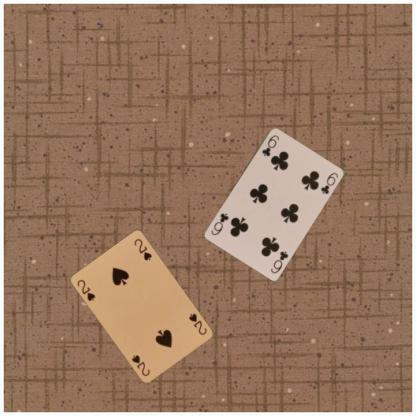2s: (186, 310, 208, 336), (75, 276, 97, 302)
6c: (268, 247, 290, 274), (260, 132, 280, 157)
